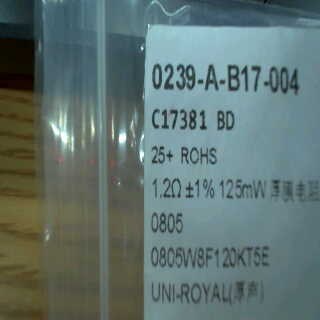1.2R: (149, 174, 183, 239)
